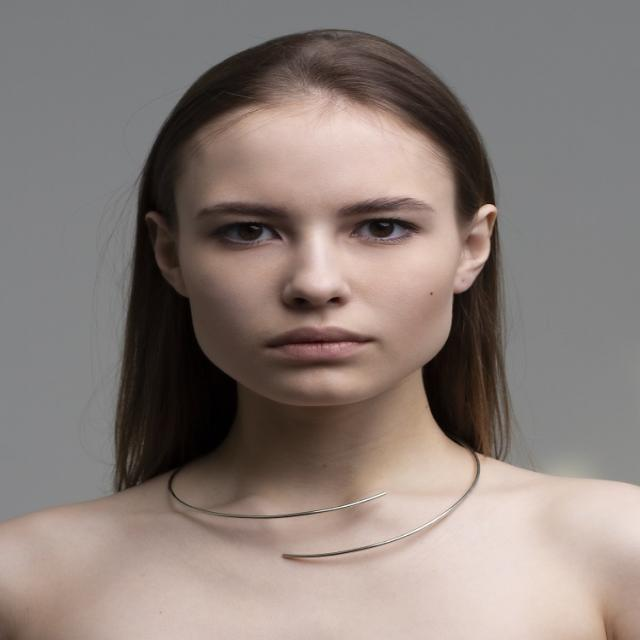earlobe: (451, 203, 498, 294), (144, 211, 191, 298)
